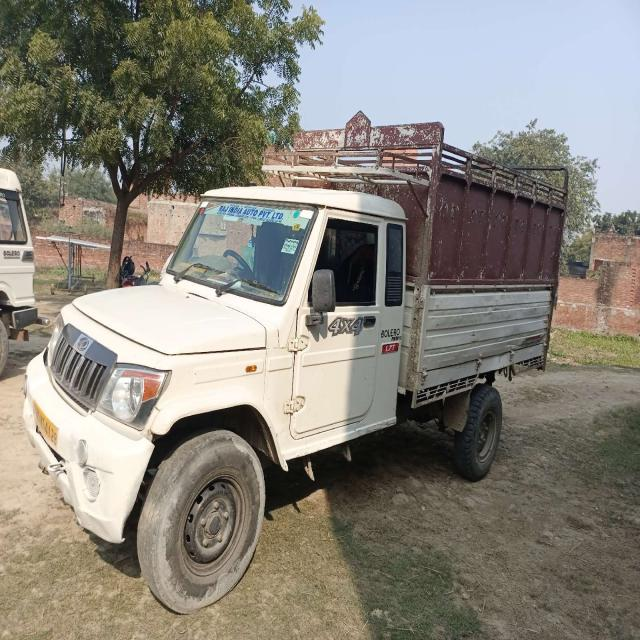light_vehicle: (28, 189, 406, 520)
